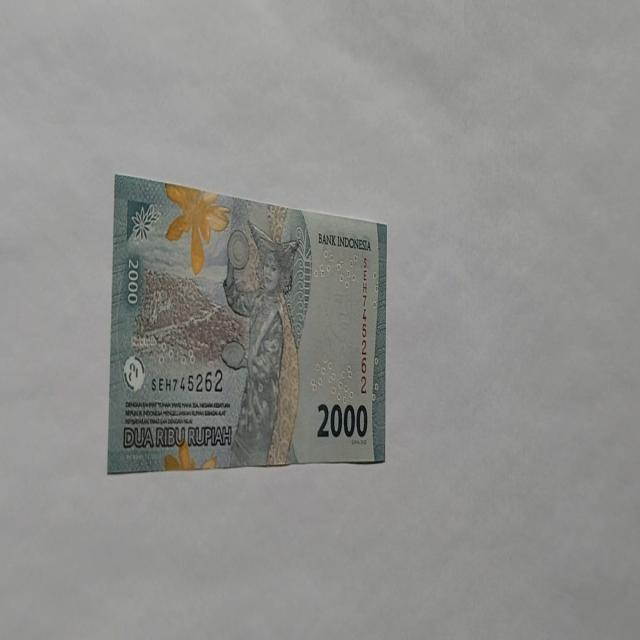dua ribu rupiah: (106, 173, 388, 473), (220, 217, 303, 467), (163, 182, 230, 276)
